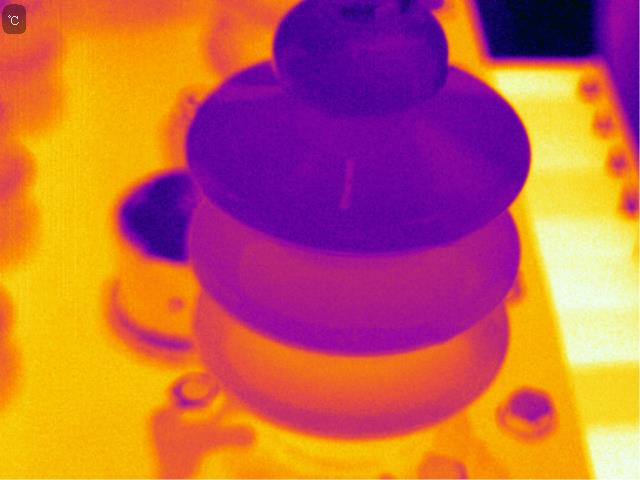Oil: (410, 115, 514, 209), (347, 32, 441, 107), (208, 41, 291, 111), (443, 65, 500, 105), (337, 148, 357, 216)
